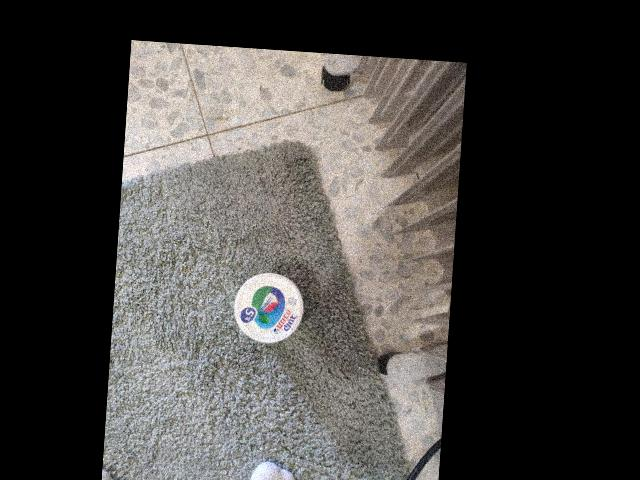cotage: (230, 267, 307, 342)
